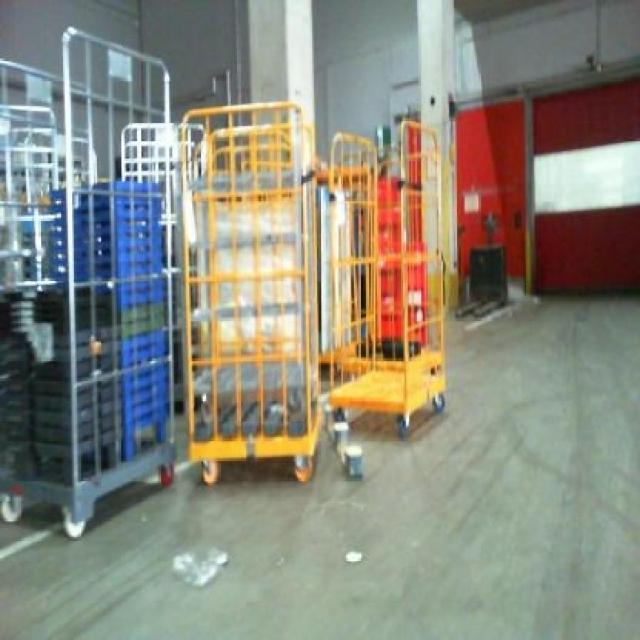floor: (0, 294, 637, 637), (168, 543, 228, 586)
pallets: (0, 26, 175, 535), (180, 100, 317, 480), (326, 118, 442, 435)
